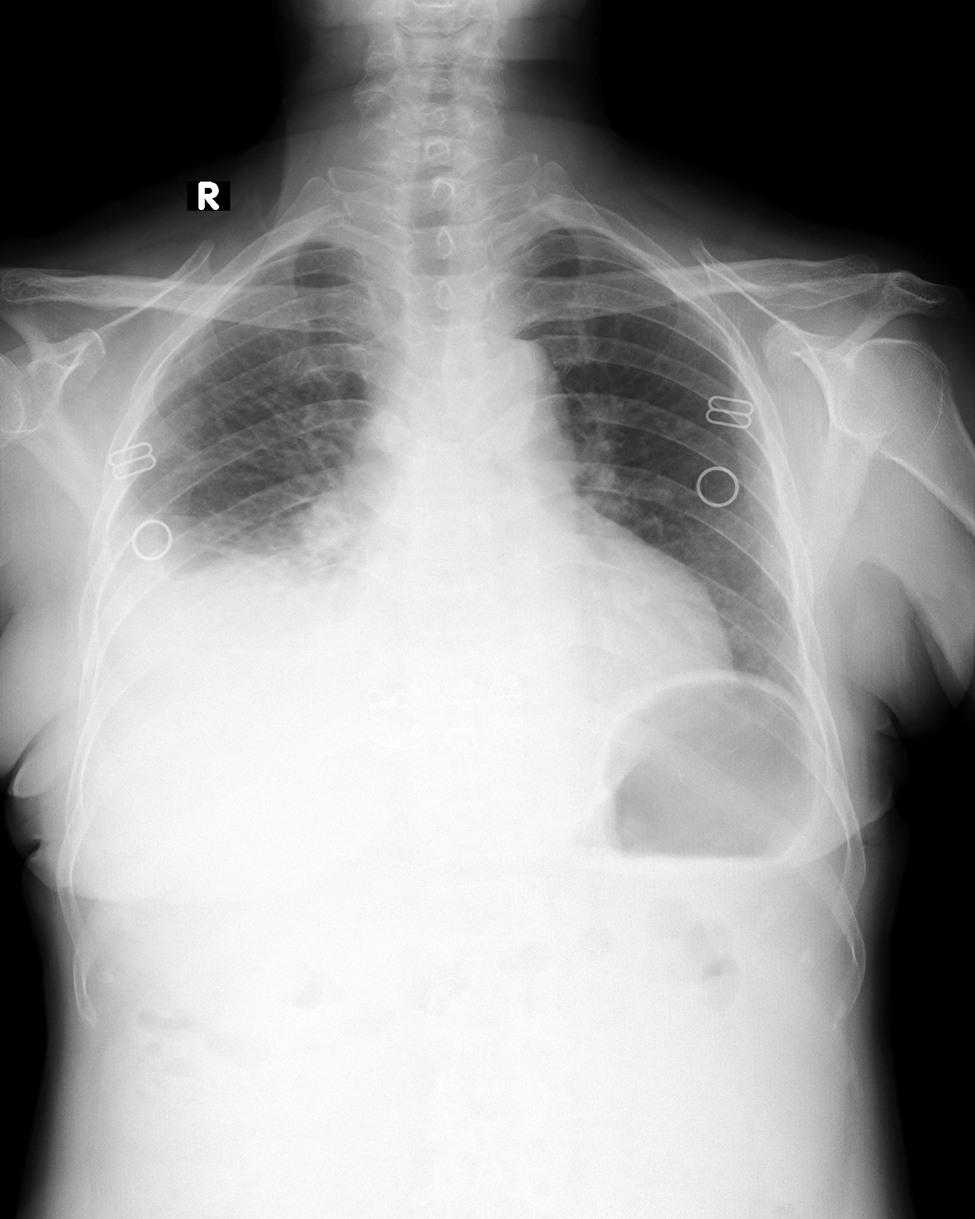Aortic enlargement: (444, 333, 574, 456)
Cardiomegaly: (325, 540, 738, 710)
